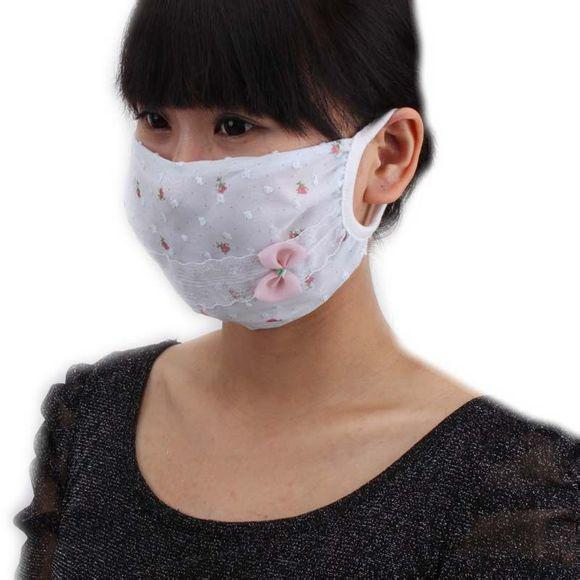OK: (127, 81, 360, 314)
